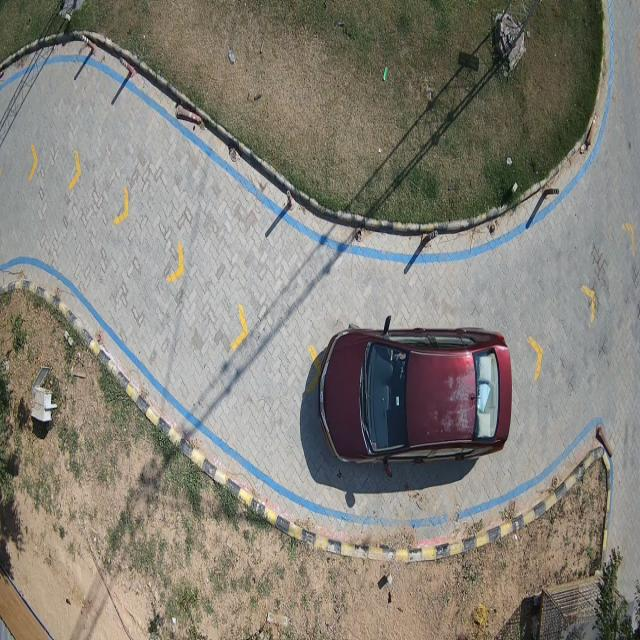car: (319, 318, 511, 476)
